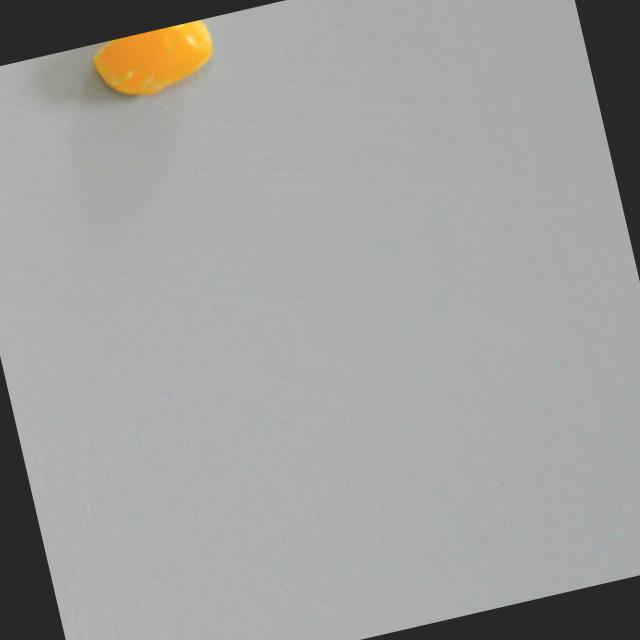pelicula: (103, 21, 212, 119)
